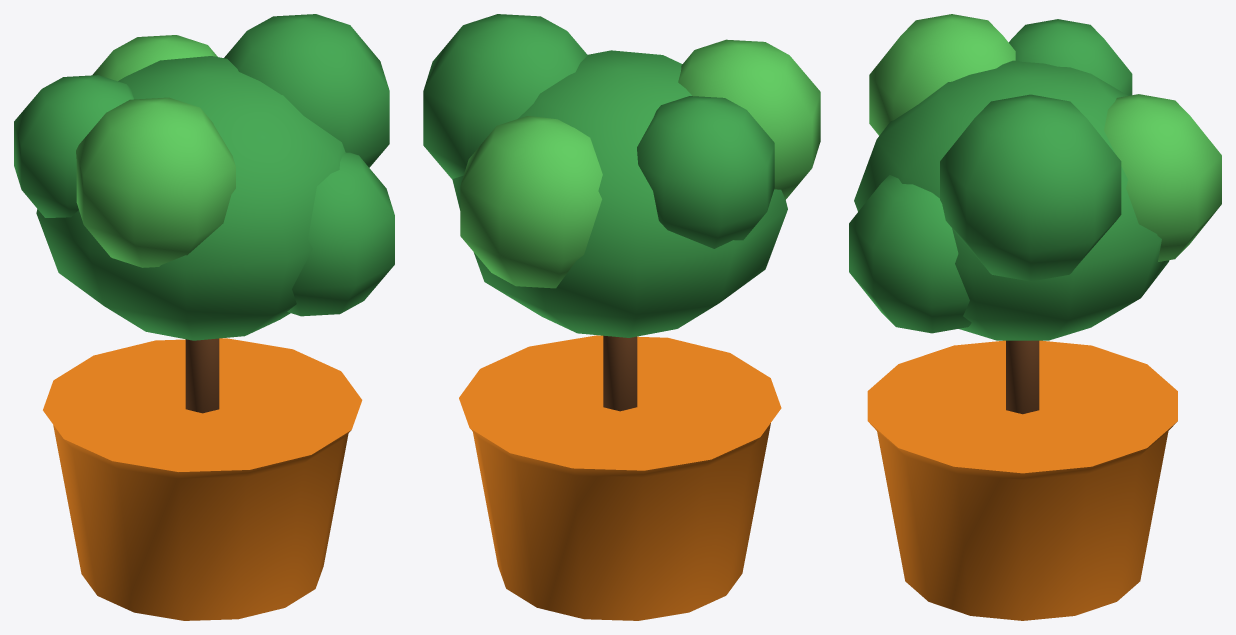
Rendered from W1_Topiary_A.fbx.
3 renders of one model, left to right at view 1: azimuth 30°, elevation 25°; view 2: azimuth 150°, elevation 25°; view 3: azimuth 270°, elevation 25°, orthographic.
Visible parts, largest first — view 1: W1_Topiary_A; view 2: W1_Topiary_A; view 3: W1_Topiary_A.
Part boxes in pixels (<box>): W1_Topiary_A: <box>14,14,394,620</box>; W1_Topiary_A: <box>423,14,820,620</box>; W1_Topiary_A: <box>849,14,1221,620</box>.
Bounding box in the file's own units: 1.64 × 2.37 × 1.55.
